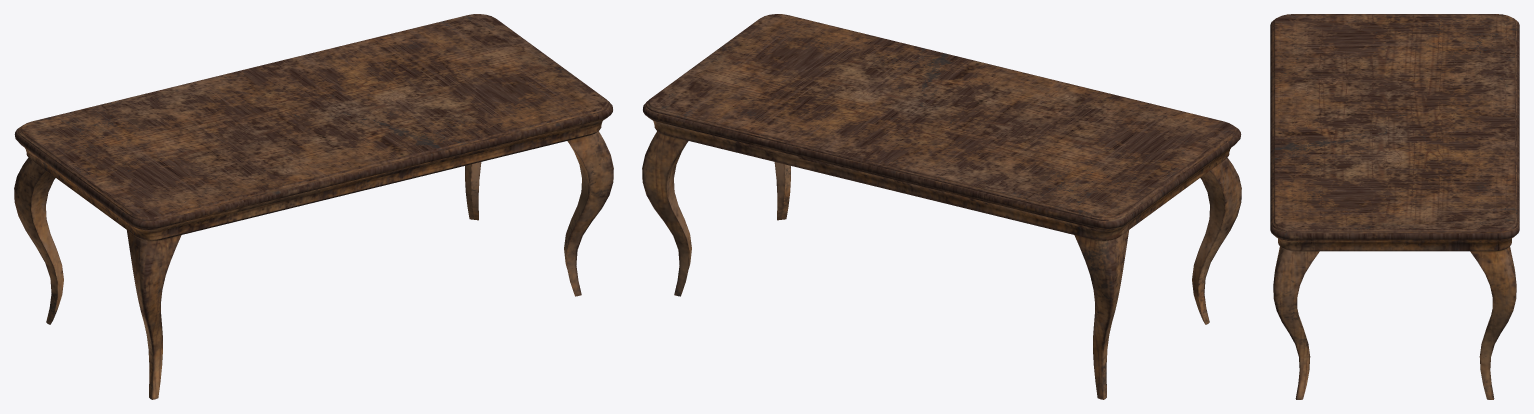
Rendered from table_bal.fbx.
The picture shows the model from 3 angles, left to right: view 1: azimuth 30°, elevation 25°; view 2: azimuth 150°, elevation 25°; view 3: azimuth 270°, elevation 25°; orthographic projection. The views are drawn at different scales.
Visible parts, largest first — view 1: Vintage_Furniture_Coffee_Table; view 2: Vintage_Furniture_Coffee_Table; view 3: Vintage_Furniture_Coffee_Table.
Part boxes in pixels (<box>): Vintage_Furniture_Coffee_Table: <box>14,14,613,399</box>; Vintage_Furniture_Coffee_Table: <box>642,14,1241,399</box>; Vintage_Furniture_Coffee_Table: <box>1270,14,1519,399</box>.
Bounding box in the file's own units: 163 × 62.62 × 78.49.
Materials: 1 (1 with a texture image).
